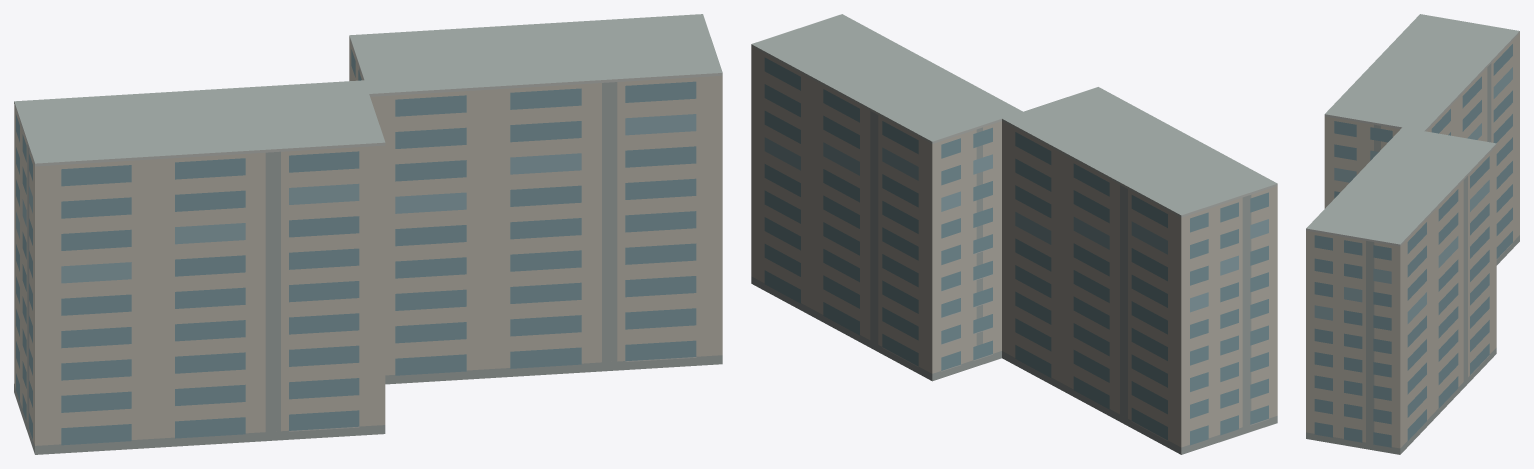
The model's file is residential-8aef17be-6094-4e4e-a70e-bff541b1b69e.glb.
3 views of the same model, side by side, from view 1: azimuth 30°, elevation 25°; view 2: azimuth 150°, elevation 25°; view 3: azimuth 270°, elevation 25° (orthographic). The views are drawn at different scales.
Visible parts, largest first — view 1: residential-8aef17be-6094-4e4e-a70e-bff541b1b69e.tmp; view 2: residential-8aef17be-6094-4e4e-a70e-bff541b1b69e.tmp; view 3: residential-8aef17be-6094-4e4e-a70e-bff541b1b69e.tmp.
Part boxes in pixels (x1,y1,x2,y2): residential-8aef17be-6094-4e4e-a70e-bff541b1b69e.tmp: [14, 14, 722, 454]; residential-8aef17be-6094-4e4e-a70e-bff541b1b69e.tmp: [751, 14, 1277, 454]; residential-8aef17be-6094-4e4e-a70e-bff541b1b69e.tmp: [1306, 14, 1519, 454].
Size of the model in its own units: 58.76 by 25 by 23.03.
